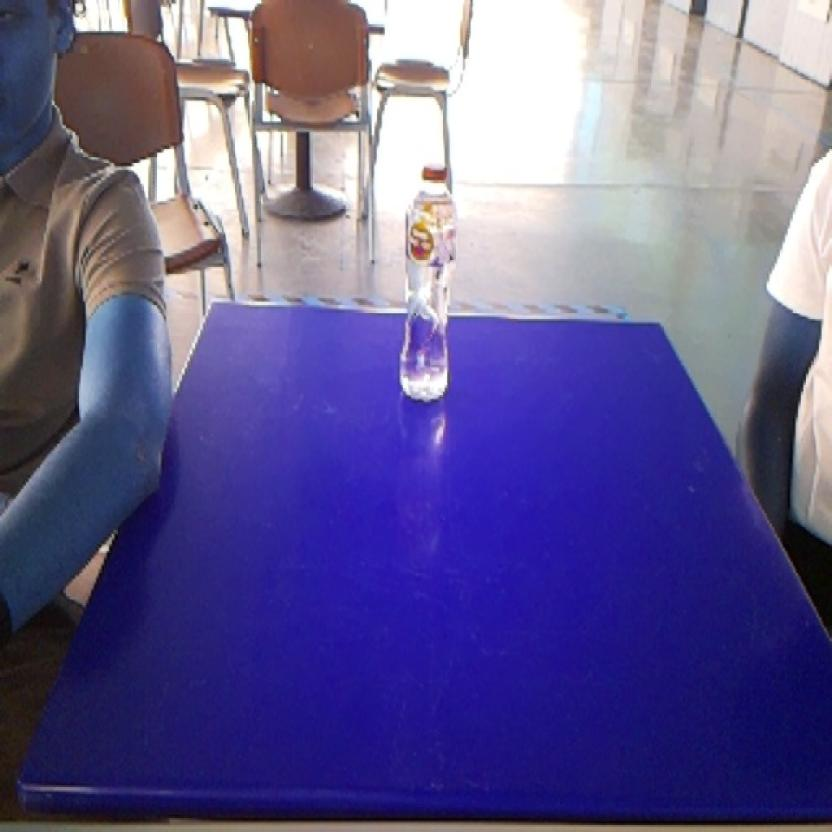good: (390, 157, 461, 416)
